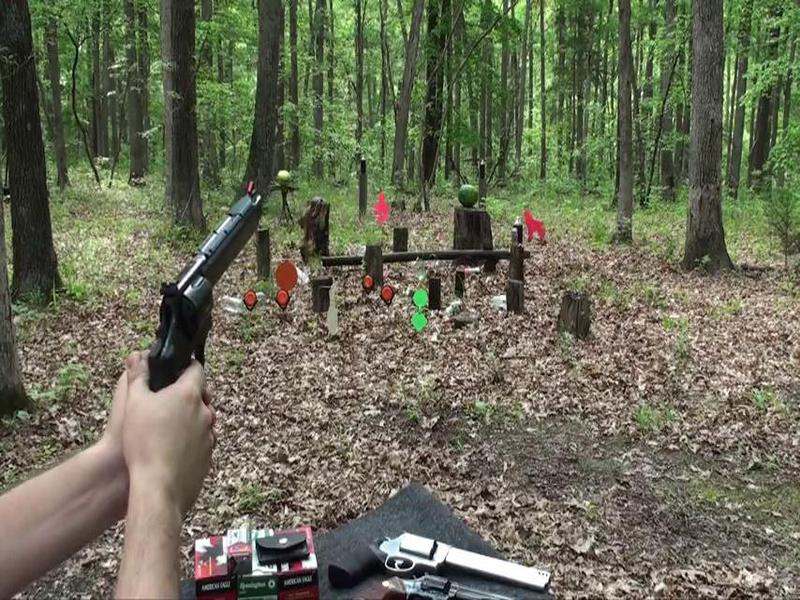Revolver: (126, 194, 284, 378)
